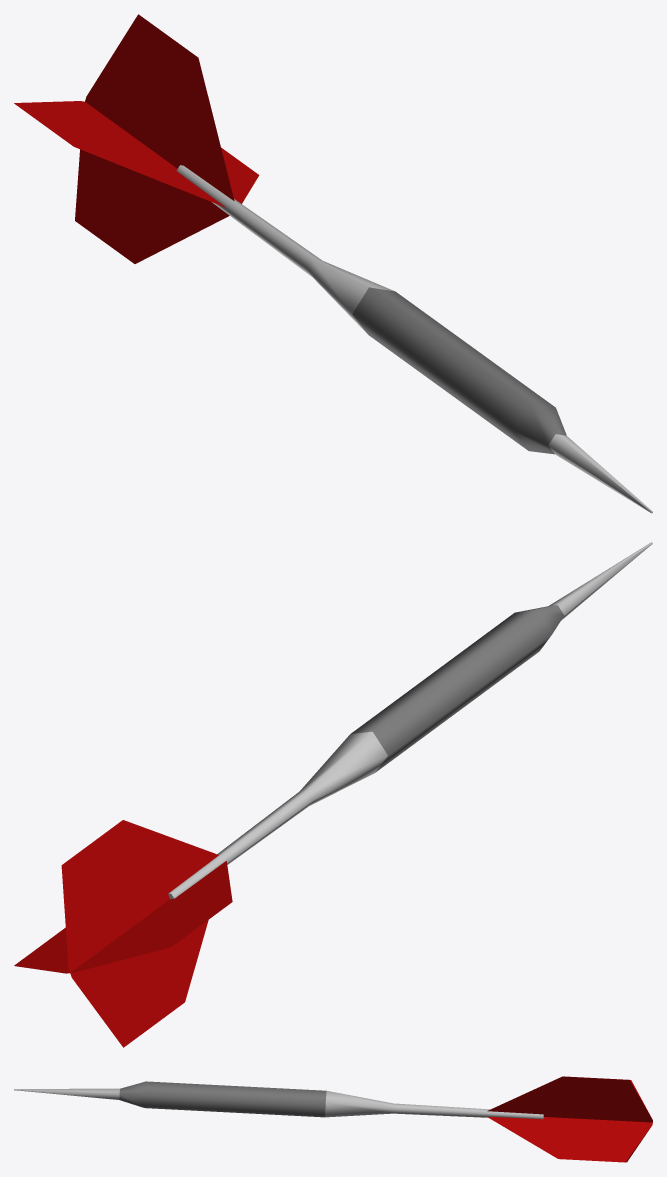
Rendered from RedDart.fbx.
3 renders of one model, top to bottom at view 1: azimuth 30°, elevation 25°; view 2: azimuth 150°, elevation 25°; view 3: azimuth 270°, elevation 25°, orthographic. The views are drawn at different scales.
Visible parts, largest first — view 1: Dart_Red001; view 2: Dart_Red001; view 3: Dart_Red001.
Boxes of the visible parts, <box> form: Dart_Red001: <box>14,14,652,513</box>; Dart_Red001: <box>14,542,652,1047</box>; Dart_Red001: <box>14,1076,652,1162</box>.
Bounding box in the file's own units: 4.73 × 4.74 × 26.97.
